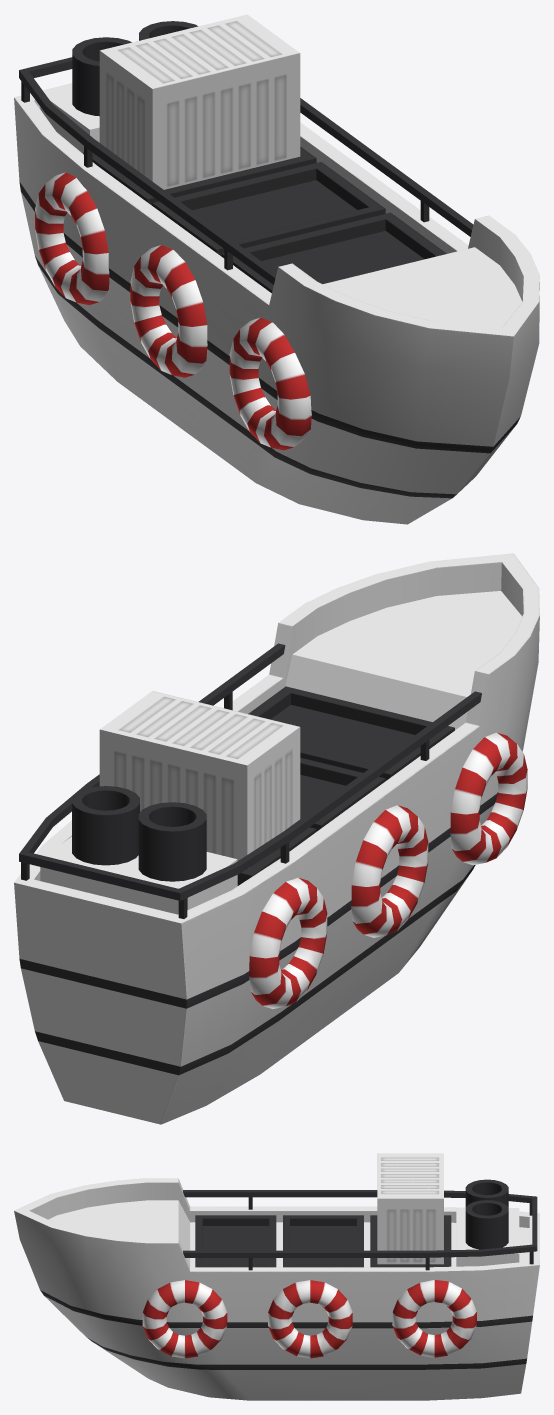
Rendered from boat.fbx.
The picture shows the model from 3 angles, top to bottom: view 1: azimuth 30°, elevation 25°; view 2: azimuth 150°, elevation 25°; view 3: azimuth 270°, elevation 25°; orthographic projection. The views are drawn at different scales.
Parts seen in each view (by area): view 1: boat, container_01, container_box_02, container_box_03, container_box_01; view 2: boat, container_01, container_box_03, container_box_02, container_box_01; view 3: boat, container_01, container_box_03, container_box_02, container_box_01.
Boxes of the visible parts, box(x1,y1,x2,y2) form: boat: box(14, 21, 539, 524); container_01: box(99, 14, 300, 189); container_box_02: box(152, 162, 385, 256); container_box_03: box(221, 212, 446, 293); container_box_01: box(83, 146, 316, 205); boat: box(14, 553, 539, 1124); container_01: box(99, 691, 300, 860); container_box_03: box(248, 686, 454, 780); container_box_02: box(300, 757, 385, 831); container_box_01: box(237, 827, 316, 885); boat: box(14, 1178, 539, 1400); container_01: box(377, 1153, 443, 1264); container_box_03: box(195, 1215, 276, 1267); container_box_02: box(283, 1215, 363, 1267); container_box_01: box(370, 1215, 451, 1267).
Size of the model in its own units: 16.16 by 20.07 by 47.21.
1 material, 1 textured.
